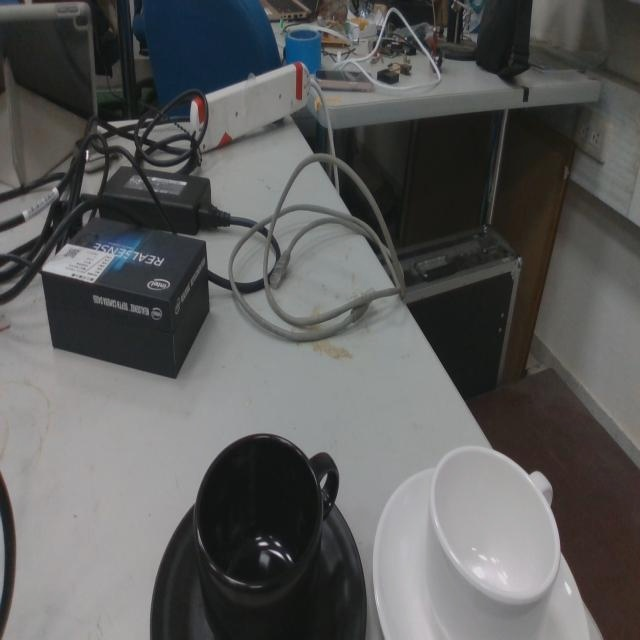black: (147, 428, 371, 640)
white: (370, 439, 593, 640)
